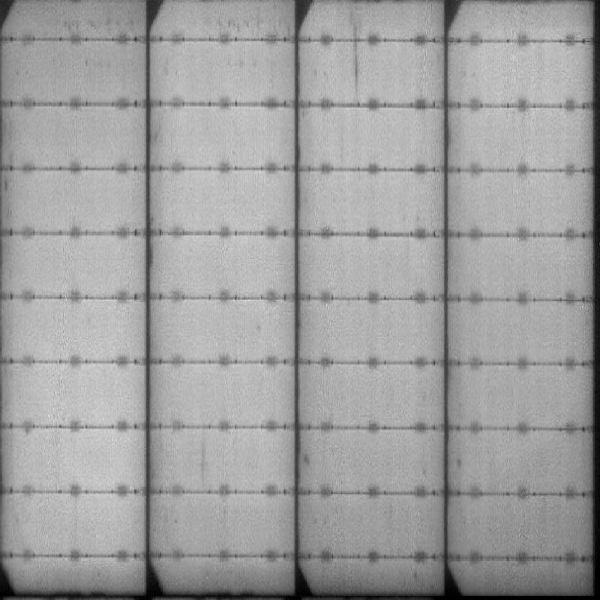scratch: (345, 23, 364, 98)
